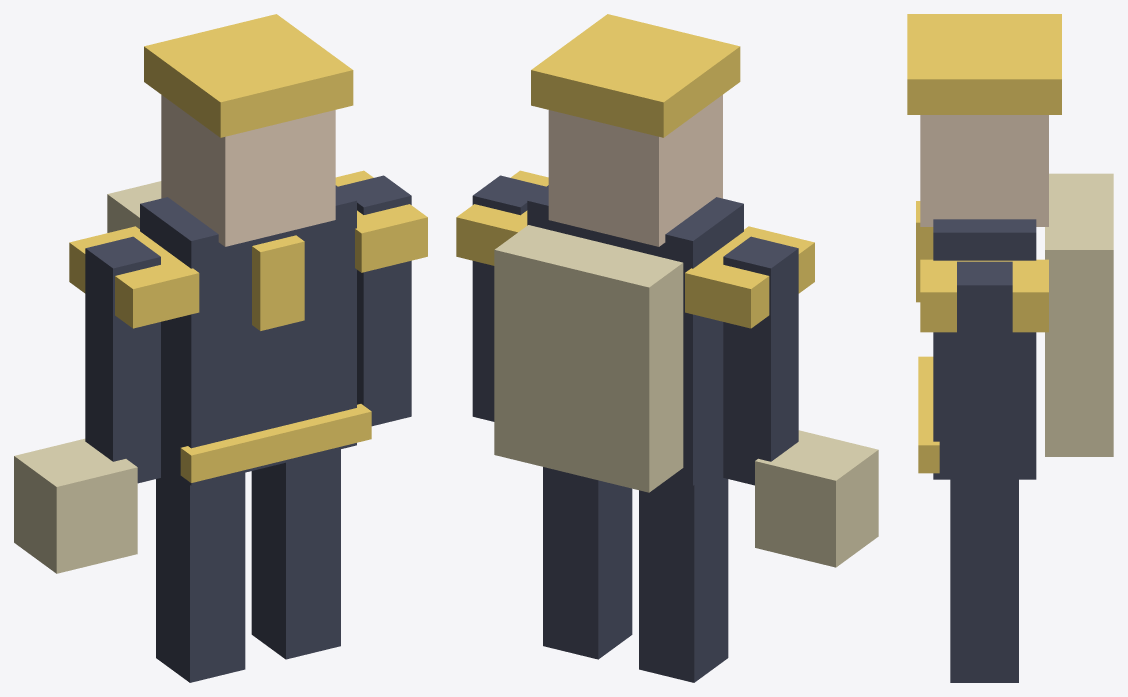
Rendered from 07_korra_tideforged_custodian_near_transit.glb.
3 views of the same model, side by side, from view 1: azimuth 30°, elevation 25°; view 2: azimuth 150°, elevation 25°; view 3: azimuth 270°, elevation 25° (orthographic).
Visible parts, largest first — view 1: Korra Tideforged, Custodian near Transit; view 2: Korra Tideforged, Custodian near Transit; view 3: Korra Tideforged, Custodian near Transit.
Part boxes in pixels (x1,y1,x2,y2): Korra Tideforged, Custodian near Transit: [14, 14, 427, 682]; Korra Tideforged, Custodian near Transit: [456, 14, 878, 682]; Korra Tideforged, Custodian near Transit: [907, 14, 1113, 682].
Size of the model in its own units: 1.07 by 1.66 by 0.5176.
